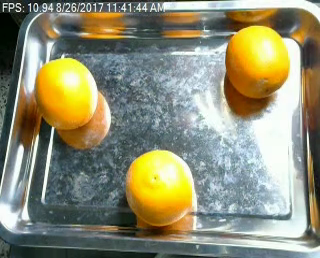Orange: (125, 148, 195, 226), (225, 25, 290, 98), (34, 57, 95, 131)
